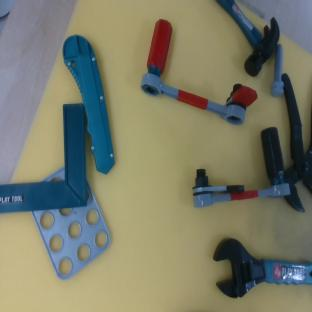non_pass: (185, 126, 290, 208)
pass: (118, 16, 263, 151)
